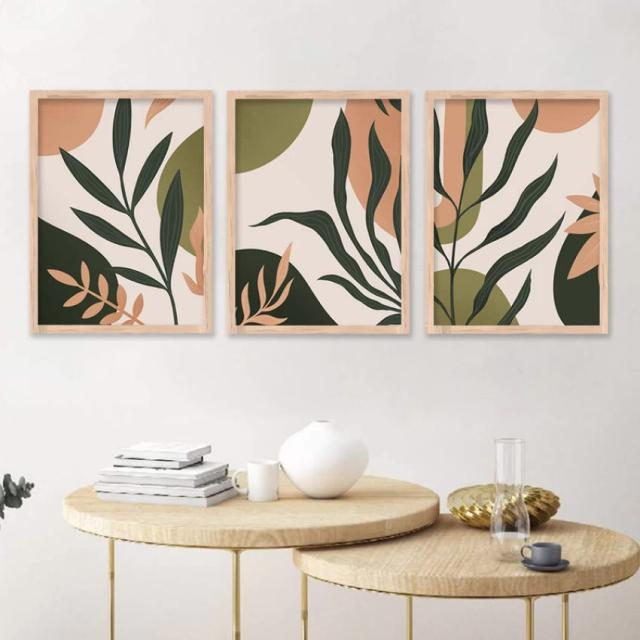painting: (226, 90, 413, 337), (423, 90, 610, 337), (27, 87, 213, 334)
